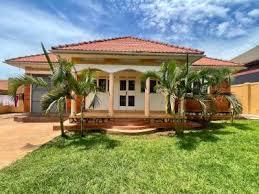casa: (20, 26, 236, 129)
